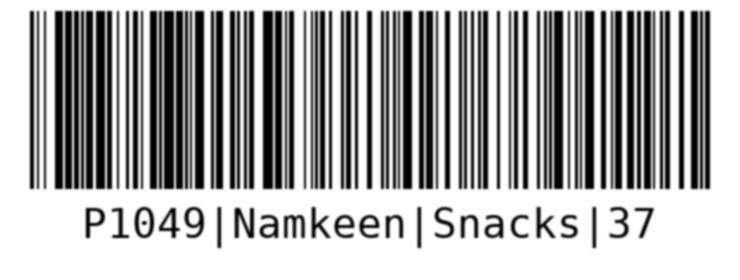milk: (23, 6, 716, 256)
